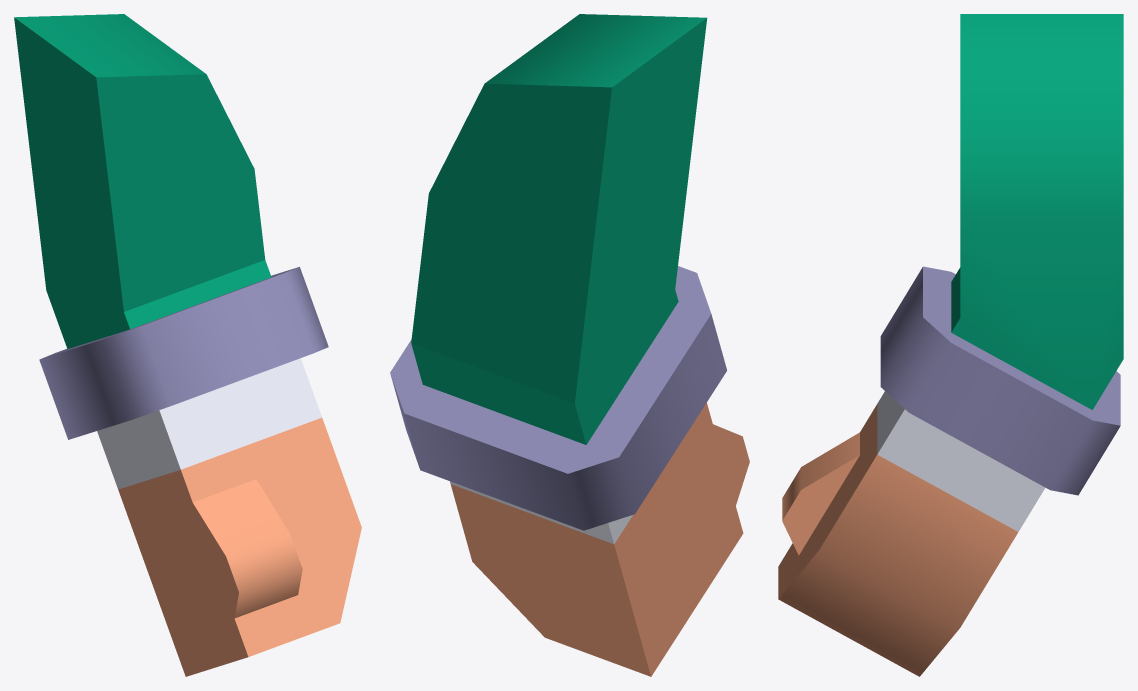
The model's file is arm.fbx.
3 views of the same model, side by side, from view 1: azimuth 30°, elevation 25°; view 2: azimuth 150°, elevation 25°; view 3: azimuth 270°, elevation 25° (orthographic). The views are drawn at different scales.
Parts seen in each view (by area): view 1: mergedBlocks; view 2: mergedBlocks; view 3: mergedBlocks.
Part boxes in pixels (bbox=[...]): mergedBlocks: bbox=[14, 14, 361, 676]; mergedBlocks: bbox=[390, 14, 749, 676]; mergedBlocks: bbox=[778, 14, 1123, 676].
Size of the model in its own units: 1.51 by 4.04 by 2.12.
